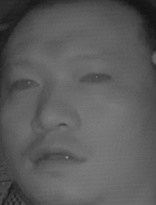eye: (78, 66, 112, 88), (10, 73, 43, 95)
mouth: (26, 138, 90, 173)
